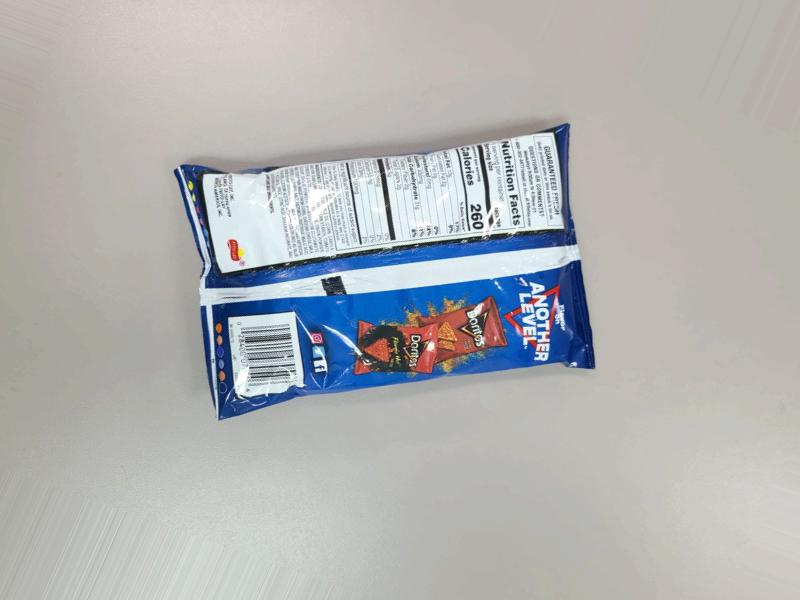doritos: (160, 130, 596, 435)
